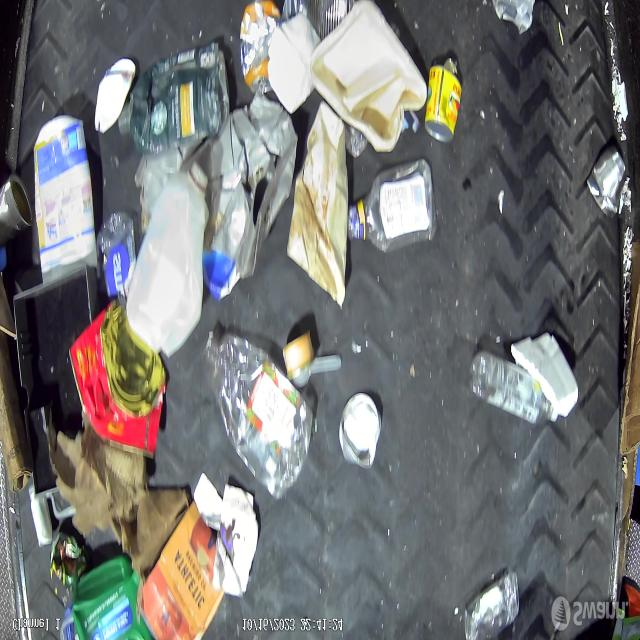can: (69, 299, 167, 461), (239, 0, 280, 96), (338, 392, 382, 470), (49, 531, 89, 610), (426, 57, 462, 144), (588, 145, 630, 216), (0, 170, 34, 237), (282, 331, 315, 380), (492, 1, 538, 34)
milk_jug: (130, 159, 208, 356)
non_white_jug: (35, 113, 95, 288), (72, 554, 152, 640)
plastic_bottle: (206, 326, 314, 504), (349, 160, 437, 251), (469, 350, 561, 428), (464, 570, 520, 640), (98, 210, 138, 300)
